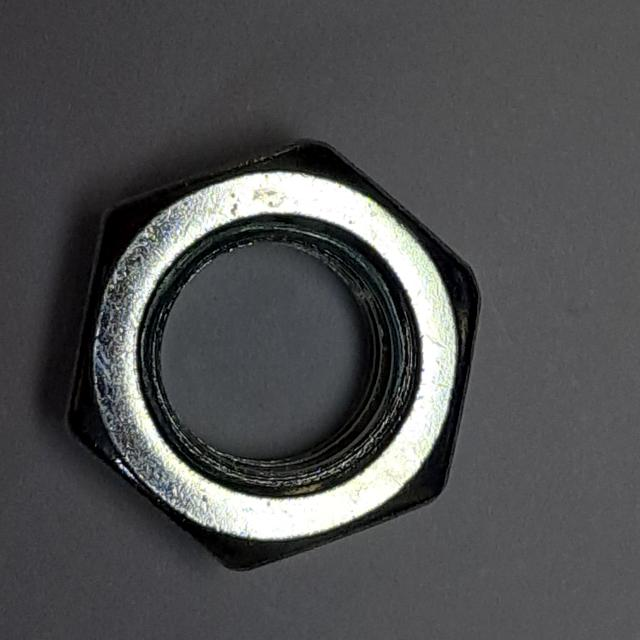Excellent: (58, 126, 494, 581)
